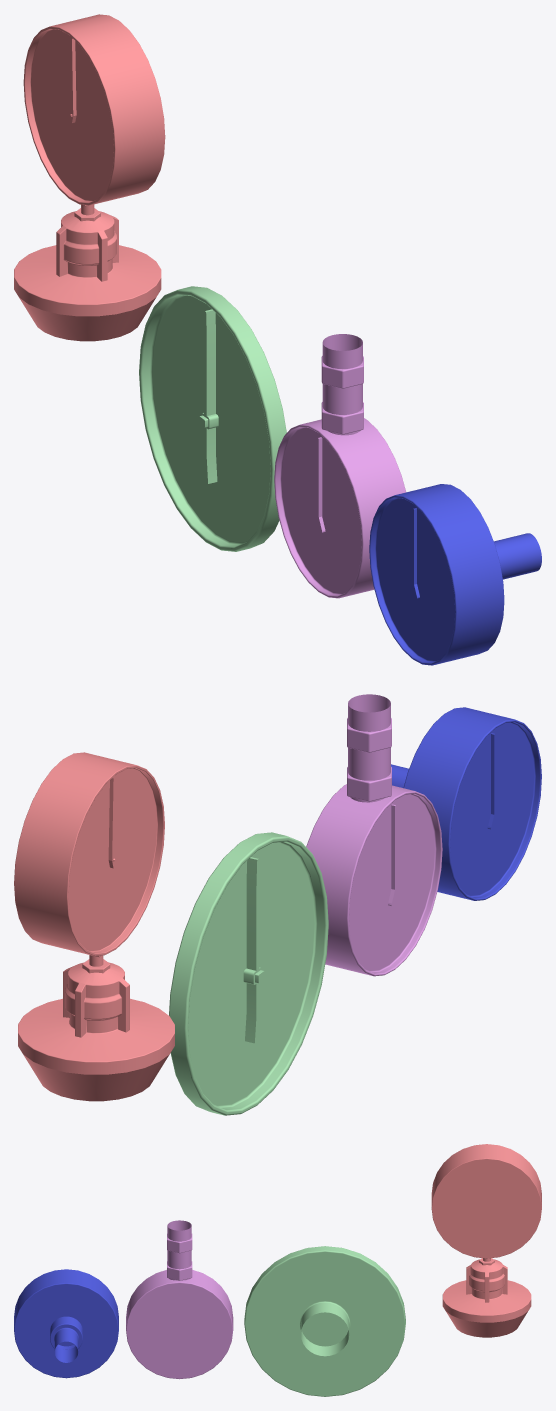
Rendered from Thermostat-SPP-IMPORT-ALLINONE.fbx.
The picture shows the model from 3 angles, top to bottom: view 1: azimuth 30°, elevation 25°; view 2: azimuth 150°, elevation 25°; view 3: azimuth 270°, elevation 25°; orthographic projection. The views are drawn at different scales.
Visible parts, largest first — view 1: Thermostat-Bottom, Thermostat-Round-Big, Thermostat-Behind-Smol, Thermostat-Top, Themostat-Round-Pointer; view 2: Thermostat-Bottom, Thermostat-Round-Big, Thermostat-Top, Thermostat-Behind-Smol, Themostat-Round-Pointer, Thermostat-Side-Pointer, Themostat-Behind-Pointer, Gauge_Pointer; view 3: Thermostat-Round-Big, Thermostat-Bottom, Thermostat-Top, Thermostat-Behind-Smol.
Boxes of the visible parts, x1,y1,x2,y2 form: Thermostat-Bottom: [14, 14, 165, 341]; Thermostat-Round-Big: [139, 286, 286, 551]; Thermostat-Behind-Smol: [369, 484, 541, 665]; Thermostat-Top: [274, 334, 405, 598]; Themostat-Round-Pointer: [199, 309, 218, 483]; Thermostat-Bottom: [14, 752, 174, 1101]; Thermostat-Round-Big: [169, 832, 328, 1115]; Thermostat-Top: [306, 694, 442, 976]; Thermostat-Behind-Smol: [391, 707, 541, 900]; Themostat-Round-Pointer: [243, 857, 264, 1043]; Thermostat-Side-Pointer: [388, 804, 399, 906]; Themostat-Behind-Pointer: [487, 733, 498, 829]; Gauge_Pointer: [108, 778, 115, 868]; Thermostat-Round-Big: [244, 1246, 405, 1396]; Thermostat-Bottom: [431, 1144, 541, 1337]; Thermostat-Top: [126, 1220, 233, 1379]; Thermostat-Behind-Smol: [14, 1269, 118, 1378].
Bounding box in the file's own units: 13.62 × 33.83 × 65.33.
